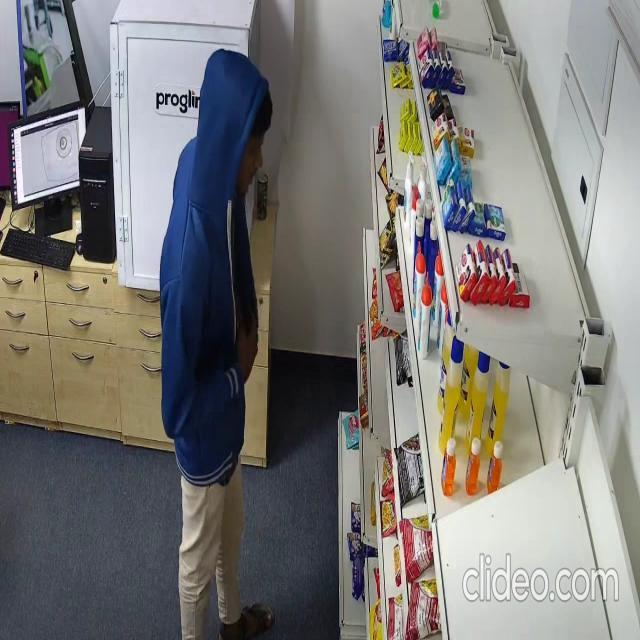Shoplifting: (156, 46, 276, 640)
